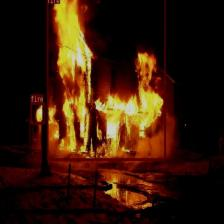fire: (46, 0, 166, 160), (30, 102, 45, 124)
